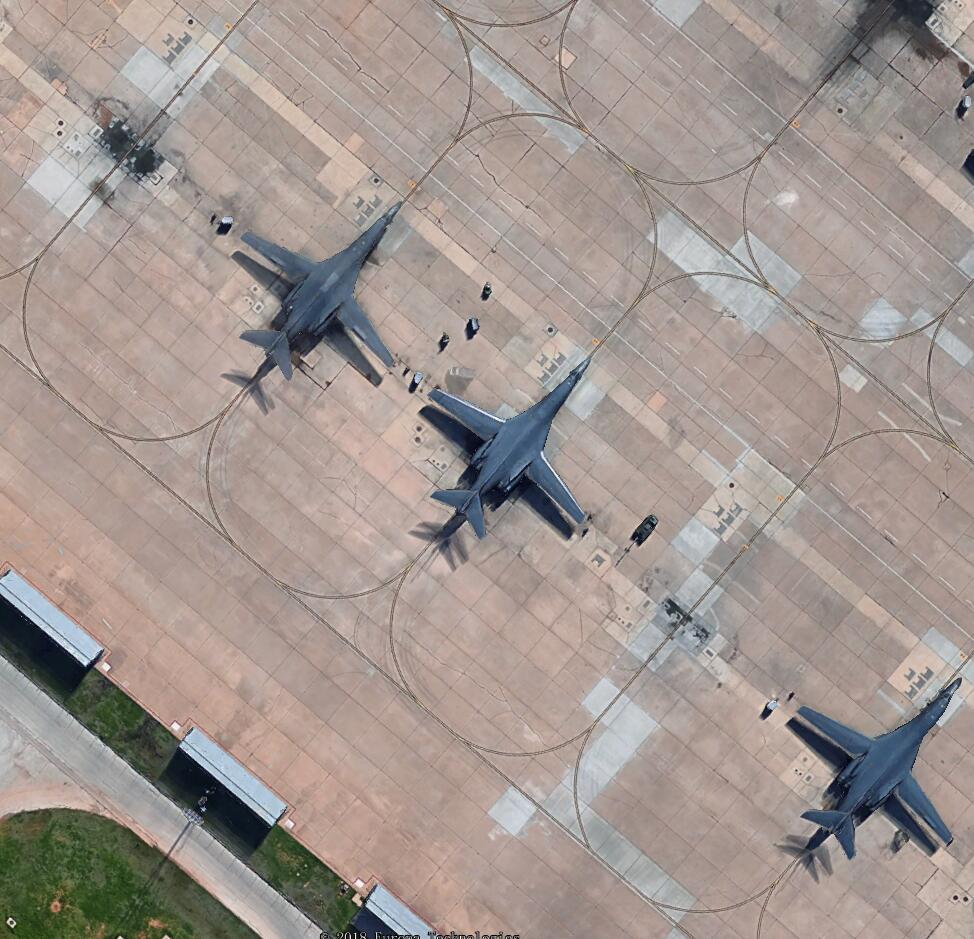A10: (783, 675, 963, 879), (424, 353, 595, 561), (231, 197, 402, 393)
